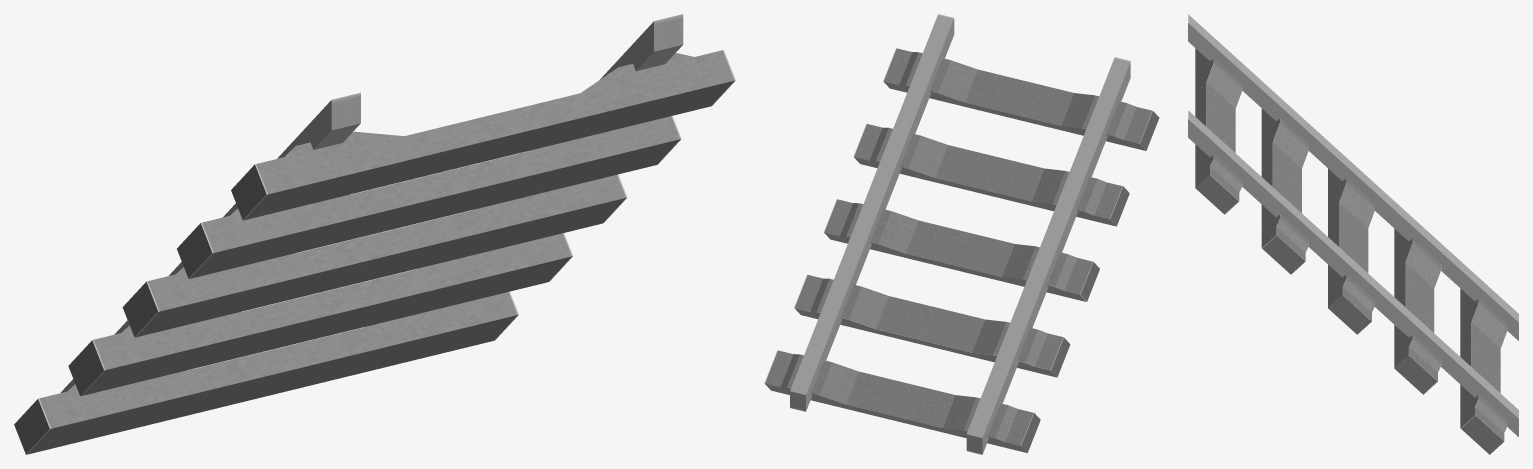
File: rail_slope.obj
3 renders of one model, left to right at view 1: azimuth 30°, elevation 25°; view 2: azimuth 150°, elevation 25°; view 3: azimuth 270°, elevation 25°, orthographic. The views are drawn at different scales.
Visible parts, largest first — view 1: b1, b3, b2, b5, b4, r2, r1; view 2: b3, b5, b4, b2, b1, r2, r1; view 3: r2, r1, b2, b1, b5, b4, b3.
Boxes of the visible parts, x1,y1,x2,y2 form: b1: (231,50,735,220); b3: (122,174,627,337); b2: (177,116,681,278); b5: (14,291,518,454); b4: (68,233,572,396); r2: (60,92,360,392); r1: (600,14,683,79); b3: (824,199,1099,301); b5: (764,350,1040,452); b4: (794,274,1070,377); b2: (853,123,1129,226); b1: (883,48,1159,150); r2: (966,57,1130,454); r1: (790,14,954,411); r2: (1188,14,1518,340); r1: (1188,110,1518,436); b2: (1261,108,1309,274); b1: (1195,48,1242,214); b5: (1460,288,1507,454); b4: (1394,229,1441,394); b3: (1328,168,1375,334).
Size of the model in its own units: 1 by 1.06 by 1.
